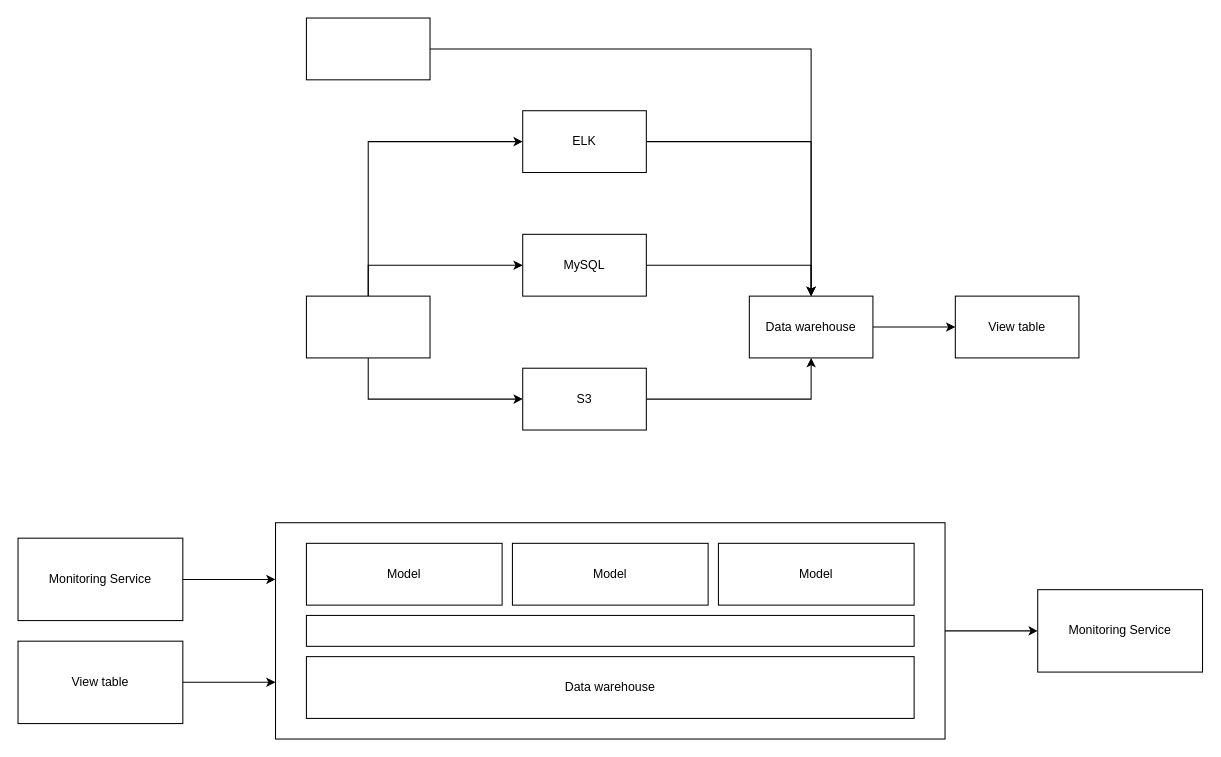
The diagram is 1221 pixels wide and 757 high, and some of its shapes have lost their labels. The centre of each missing label's shape, as x and y in pixels:
dbt: (x=609, y=630)
Service: (x=367, y=326)
Slack: (x=367, y=48)
